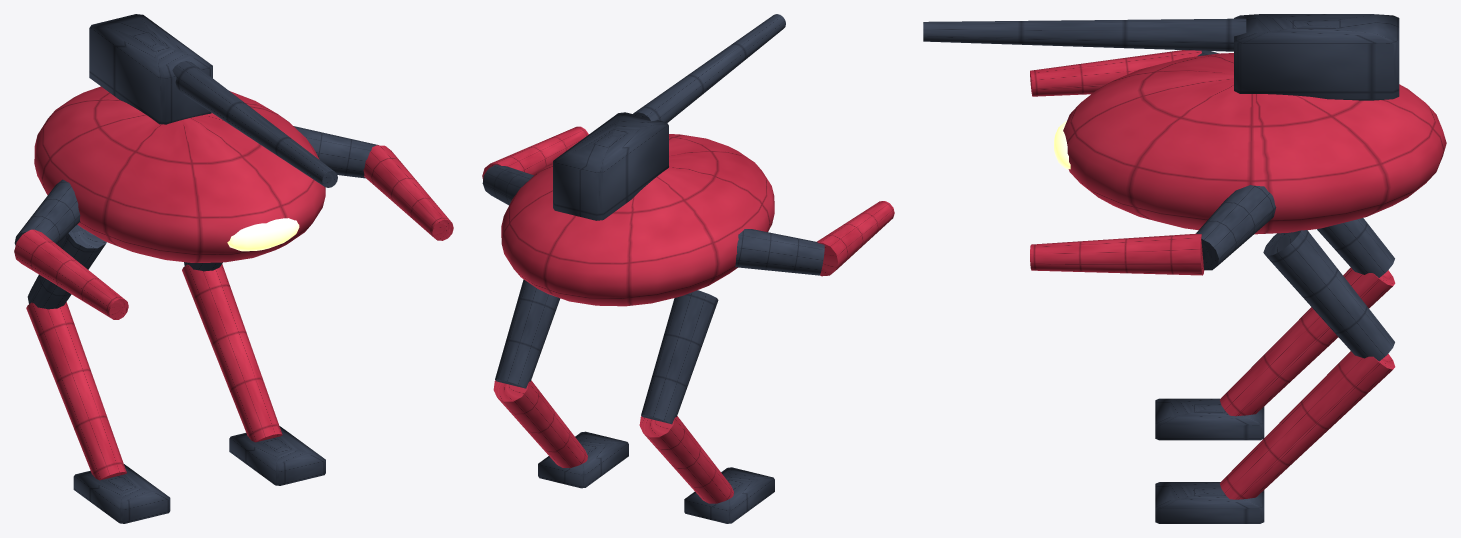
The model's file is glaug_officer.glb.
The picture shows the model from 3 angles, left to right: view 1: azimuth 30°, elevation 25°; view 2: azimuth 150°, elevation 25°; view 3: azimuth 270°, elevation 25°; orthographic projection. The views are drawn at different scales.
Parts seen in each view (by area): view 1: command_hull, shin_l, shin_r, leg_l; view 2: command_hull, shin_r, shin_l, leg_l, leg_r; view 3: command_hull, shin_r, shin_l, leg_r, leg_l.
Boxes of the visible parts, <box> form: command_hull: <box>14,14,453,319</box>; shin_l: <box>26,302,170,523</box>; shin_r: <box>182,264,325,485</box>; leg_l: <box>27,224,106,309</box>; command_hull: <box>482,14,894,306</box>; shin_r: <box>493,380,628,488</box>; shin_l: <box>639,416,774,523</box>; leg_l: <box>641,290,718,424</box>; leg_r: <box>495,279,560,388</box>; command_hull: <box>923,14,1446,275</box>; shin_r: <box>1155,351,1395,523</box>; shin_l: <box>1155,267,1395,440</box>; leg_r: <box>1263,230,1394,361</box>; leg_l: <box>1317,218,1394,277</box>.
Size of the model in its own units: 4.78 by 4.95 by 5.19.
Materials: 6 (5 with a texture image).
